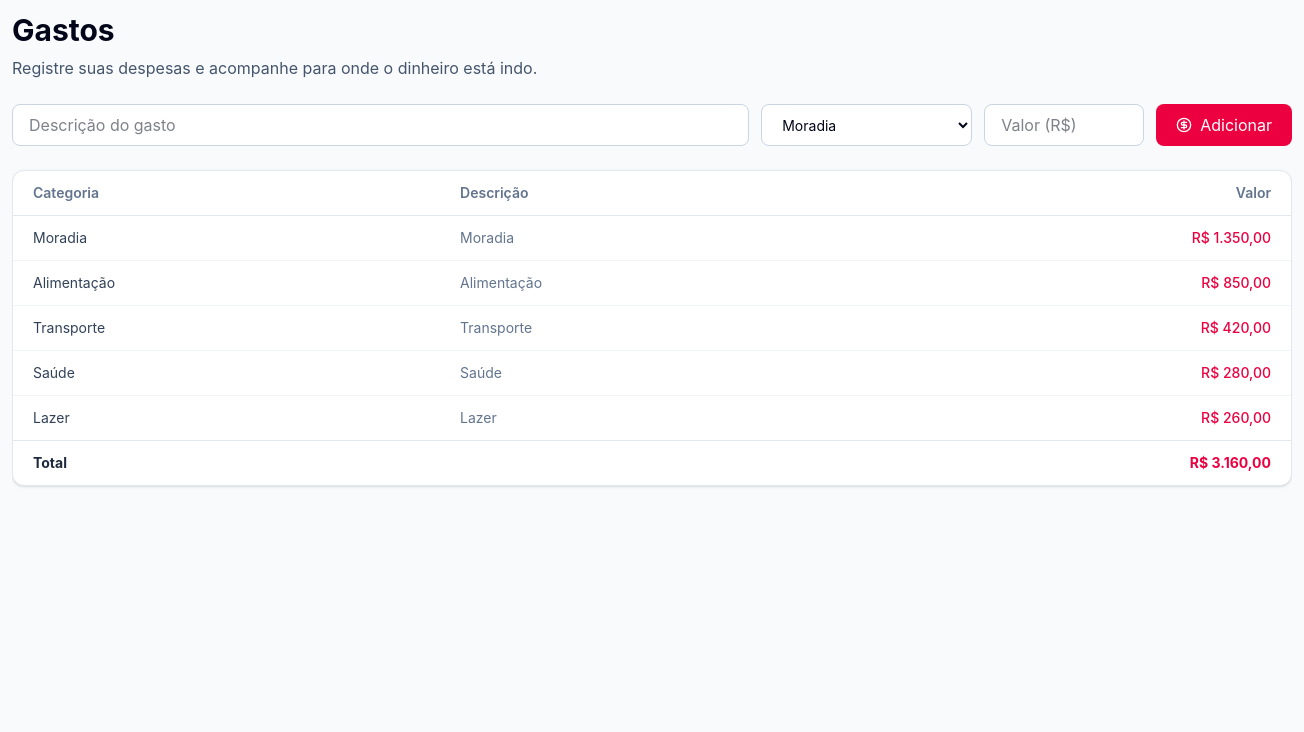
it: Expenses › adiciona nova despesa ao submeter o formulário
Type "Conta de luz" into the field with placeholder "Descrição do gasto". click: (381, 125)
box: [12,104,749,146]
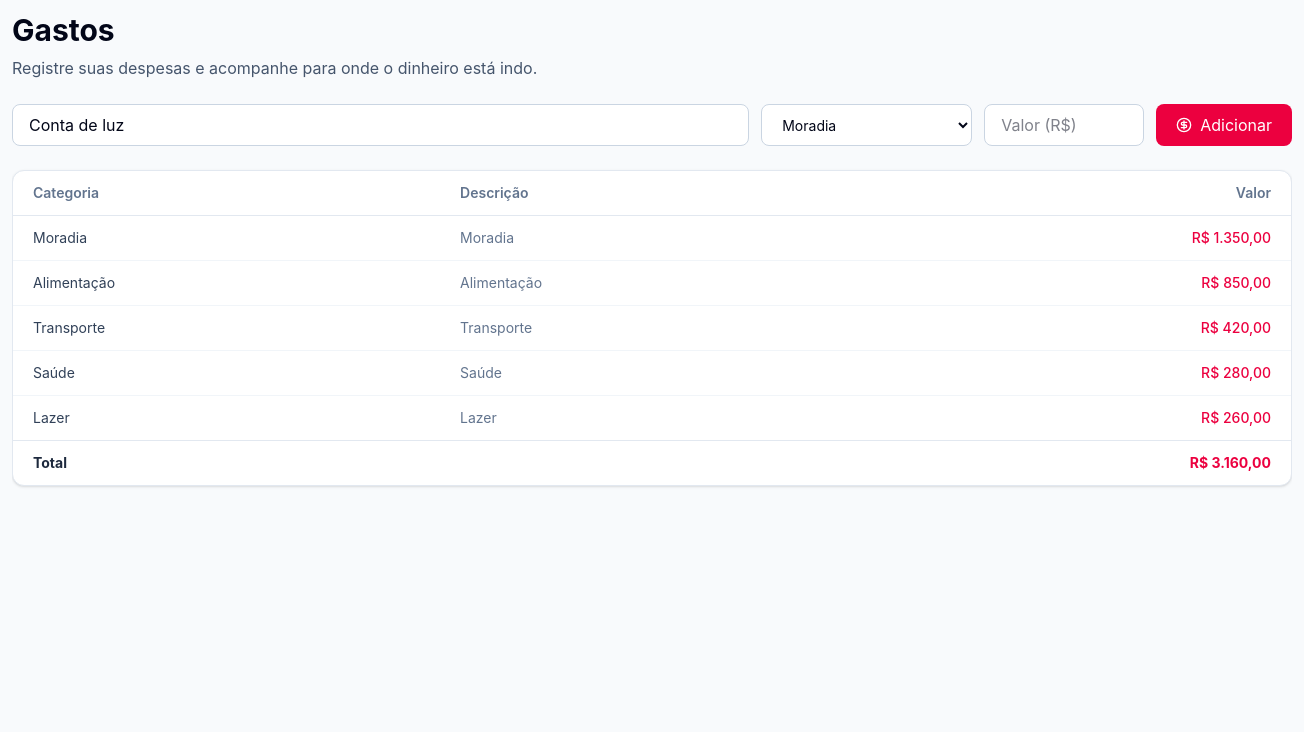
Type "120" into the number field with placeholder "Valor (R$)". click: (1064, 125)
box: [984,104,1144,146]
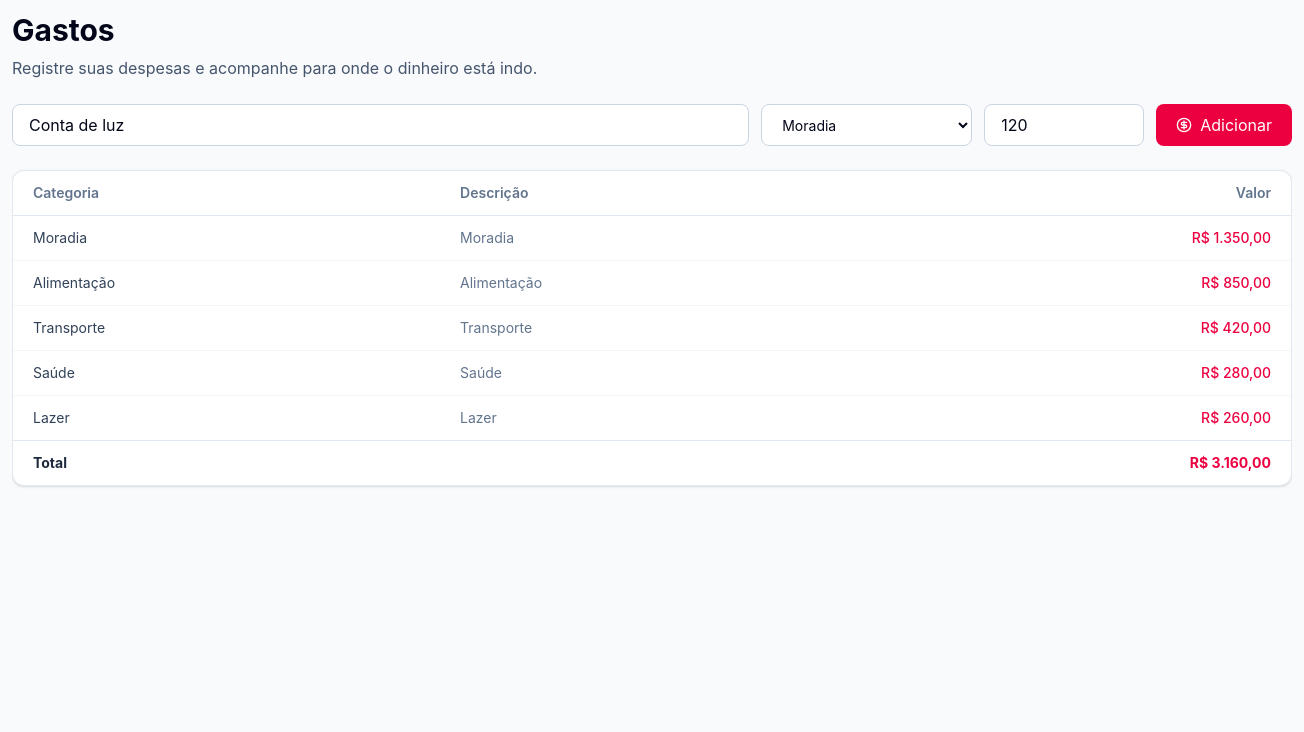
Click the button "Adicionar". click: click(1224, 125)
box: [1156,104,1292,146]
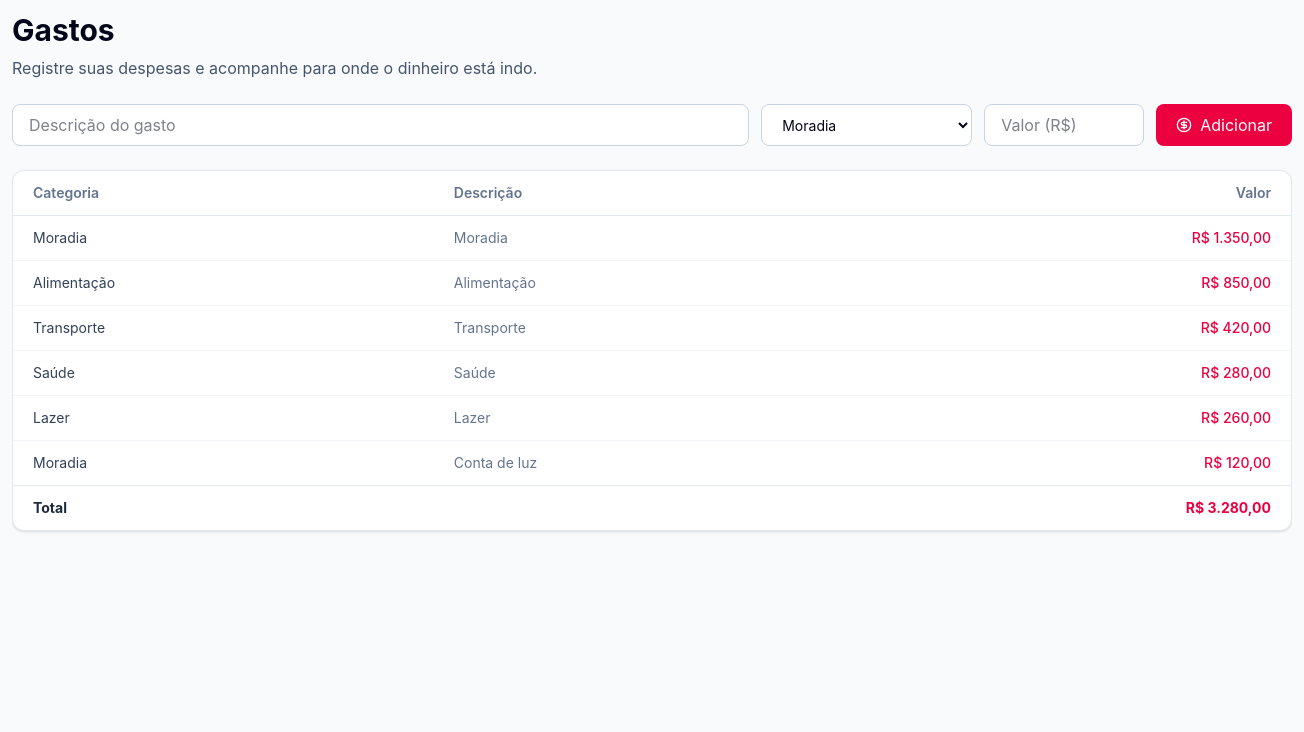
Now the text "Conta de luz" is shown, box [434,440,859,486]
